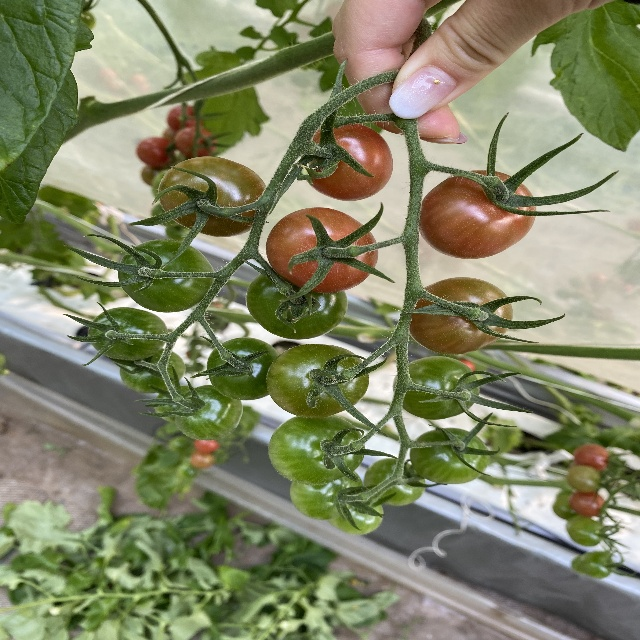l_green: (265, 342, 368, 419), (244, 268, 350, 340), (118, 238, 216, 313), (268, 414, 367, 485), (391, 355, 480, 419), (408, 427, 491, 485), (208, 338, 281, 401), (88, 307, 169, 361), (290, 472, 371, 521), (174, 385, 243, 441), (363, 455, 428, 506), (120, 347, 186, 395), (328, 494, 386, 535), (153, 386, 195, 423)
l_half_ripened: (418, 170, 538, 259), (266, 207, 378, 293), (157, 155, 264, 237), (409, 276, 515, 355), (302, 123, 395, 203)
